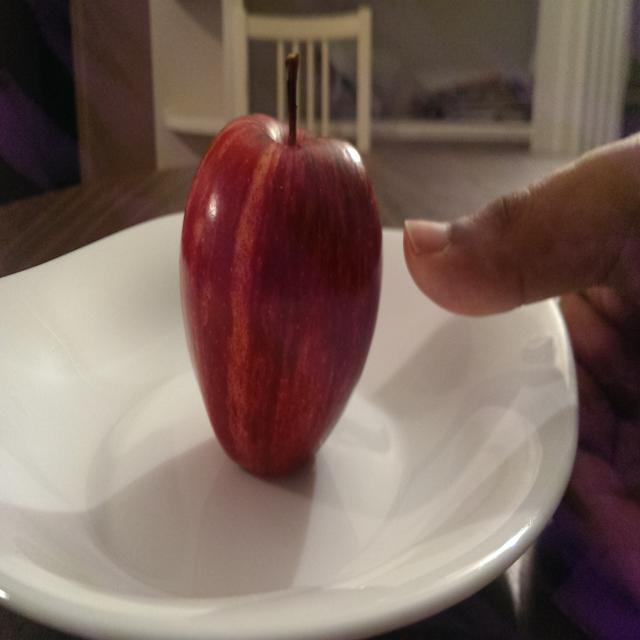apple: (175, 44, 392, 493)
